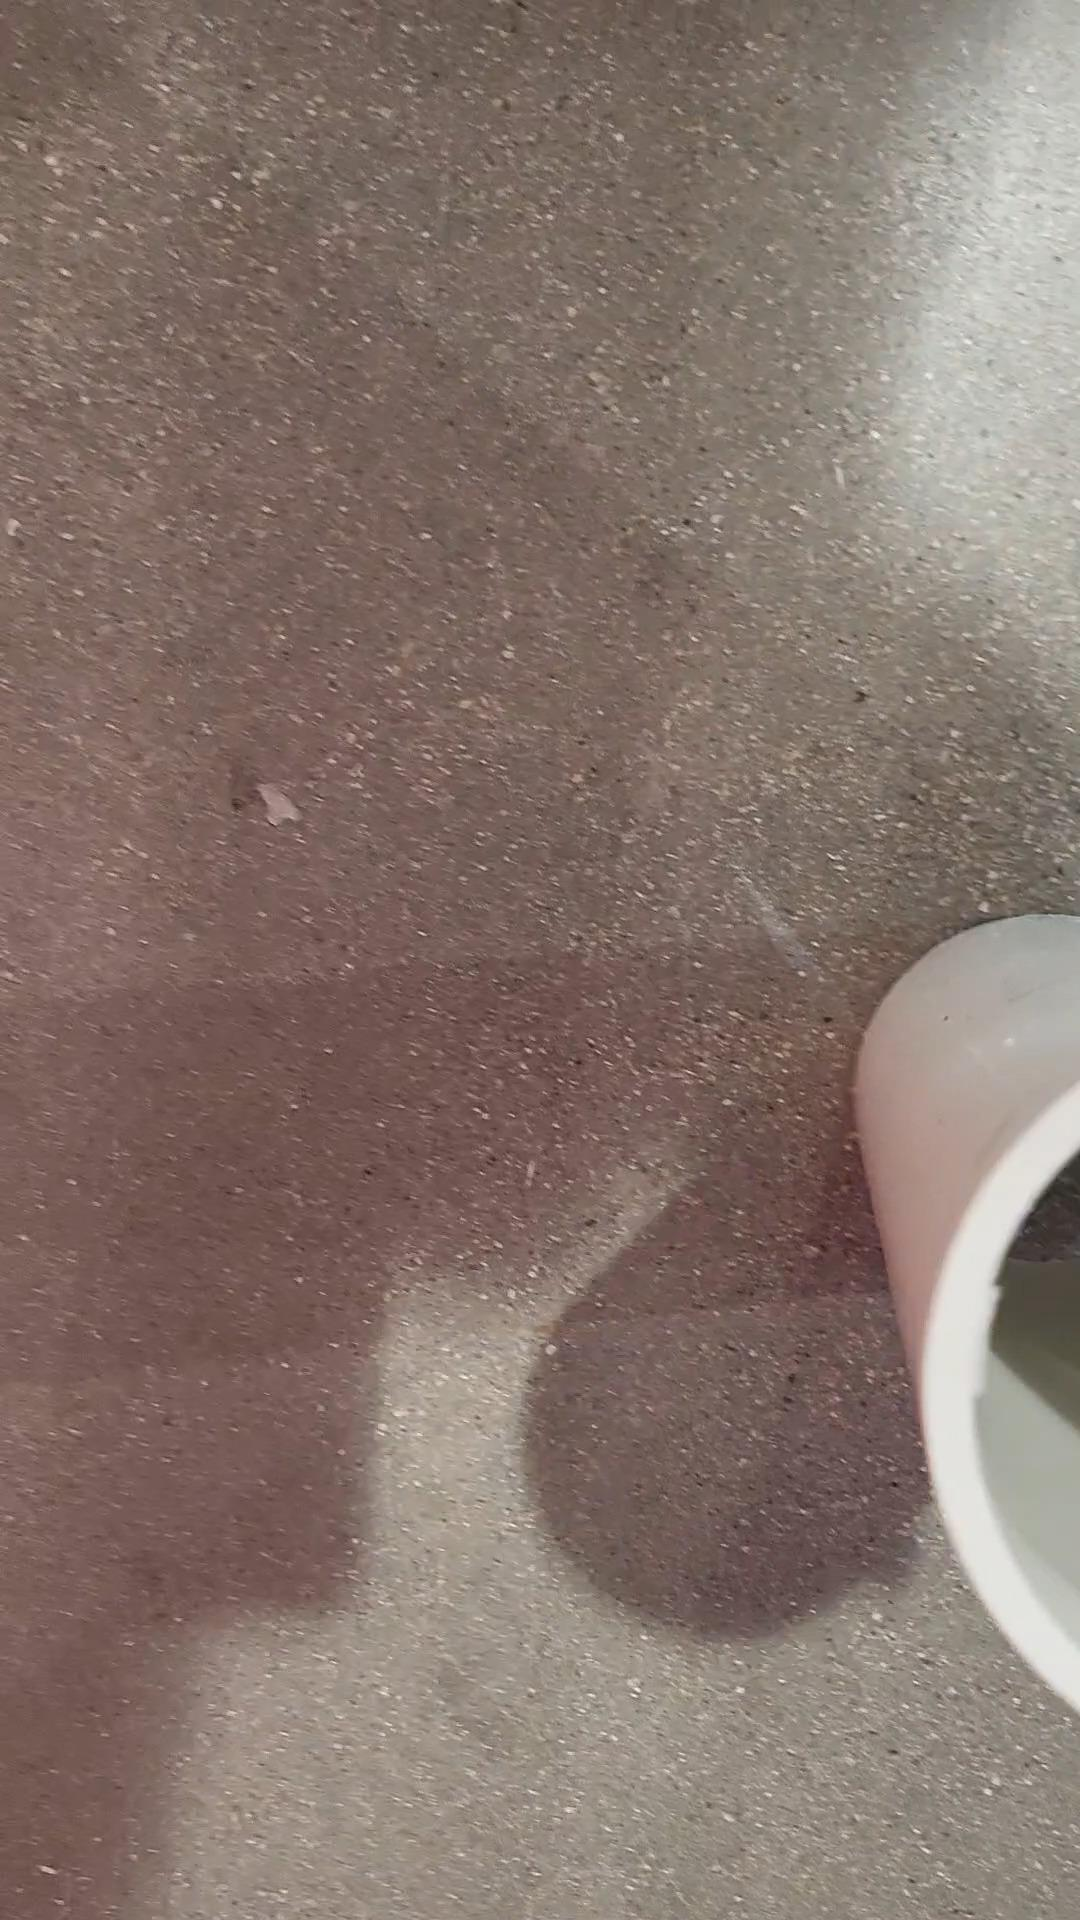coral: (848, 905, 1080, 1725)
